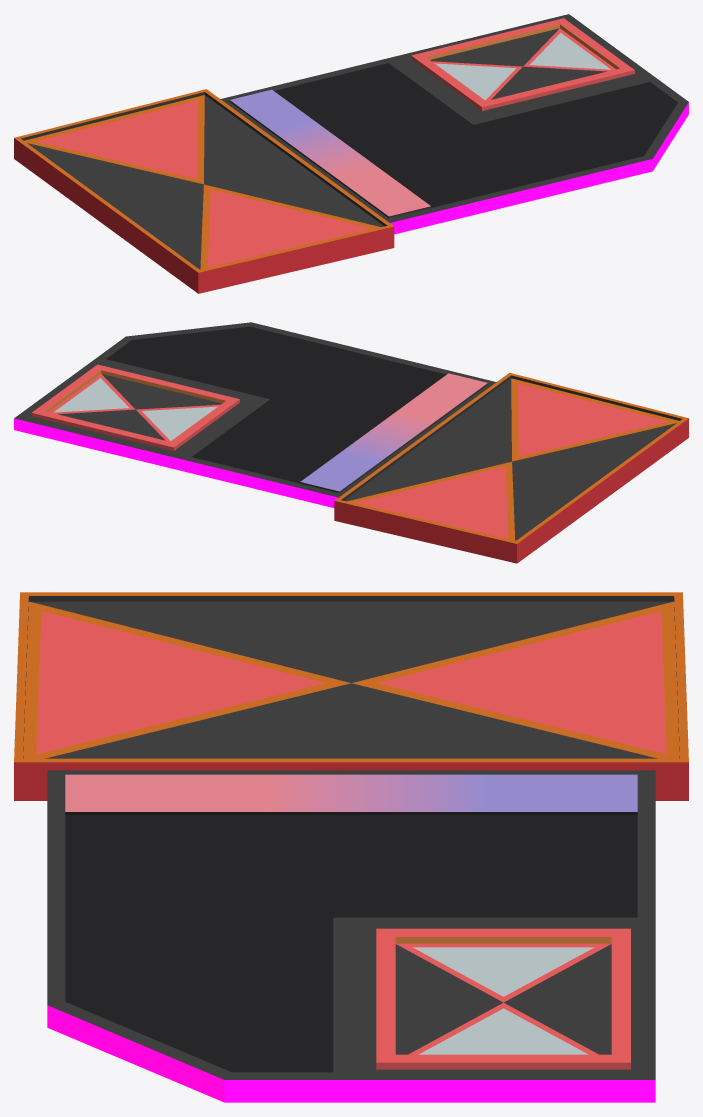
Rendered from Red_Access_Card.glb.
3 renders of one model, top to bottom at view 1: azimuth 30°, elevation 25°; view 2: azimuth 150°, elevation 25°; view 3: azimuth 270°, elevation 25°, orthographic. The views are drawn at different scales.
Parts seen in each view (by area): view 1: SciFiKey_RedAccessCard; view 2: SciFiKey_RedAccessCard; view 3: SciFiKey_RedAccessCard.
Part boxes in pixels (<box>): SciFiKey_RedAccessCard: <box>14,14,688,293</box>; SciFiKey_RedAccessCard: <box>14,322,688,563</box>; SciFiKey_RedAccessCard: <box>14,592,688,1102</box>.
Size of what is drawn, in the model's own units: 0.4465 by 0.0167 by 0.2654.
Materials: 1 (1 with a texture image).
